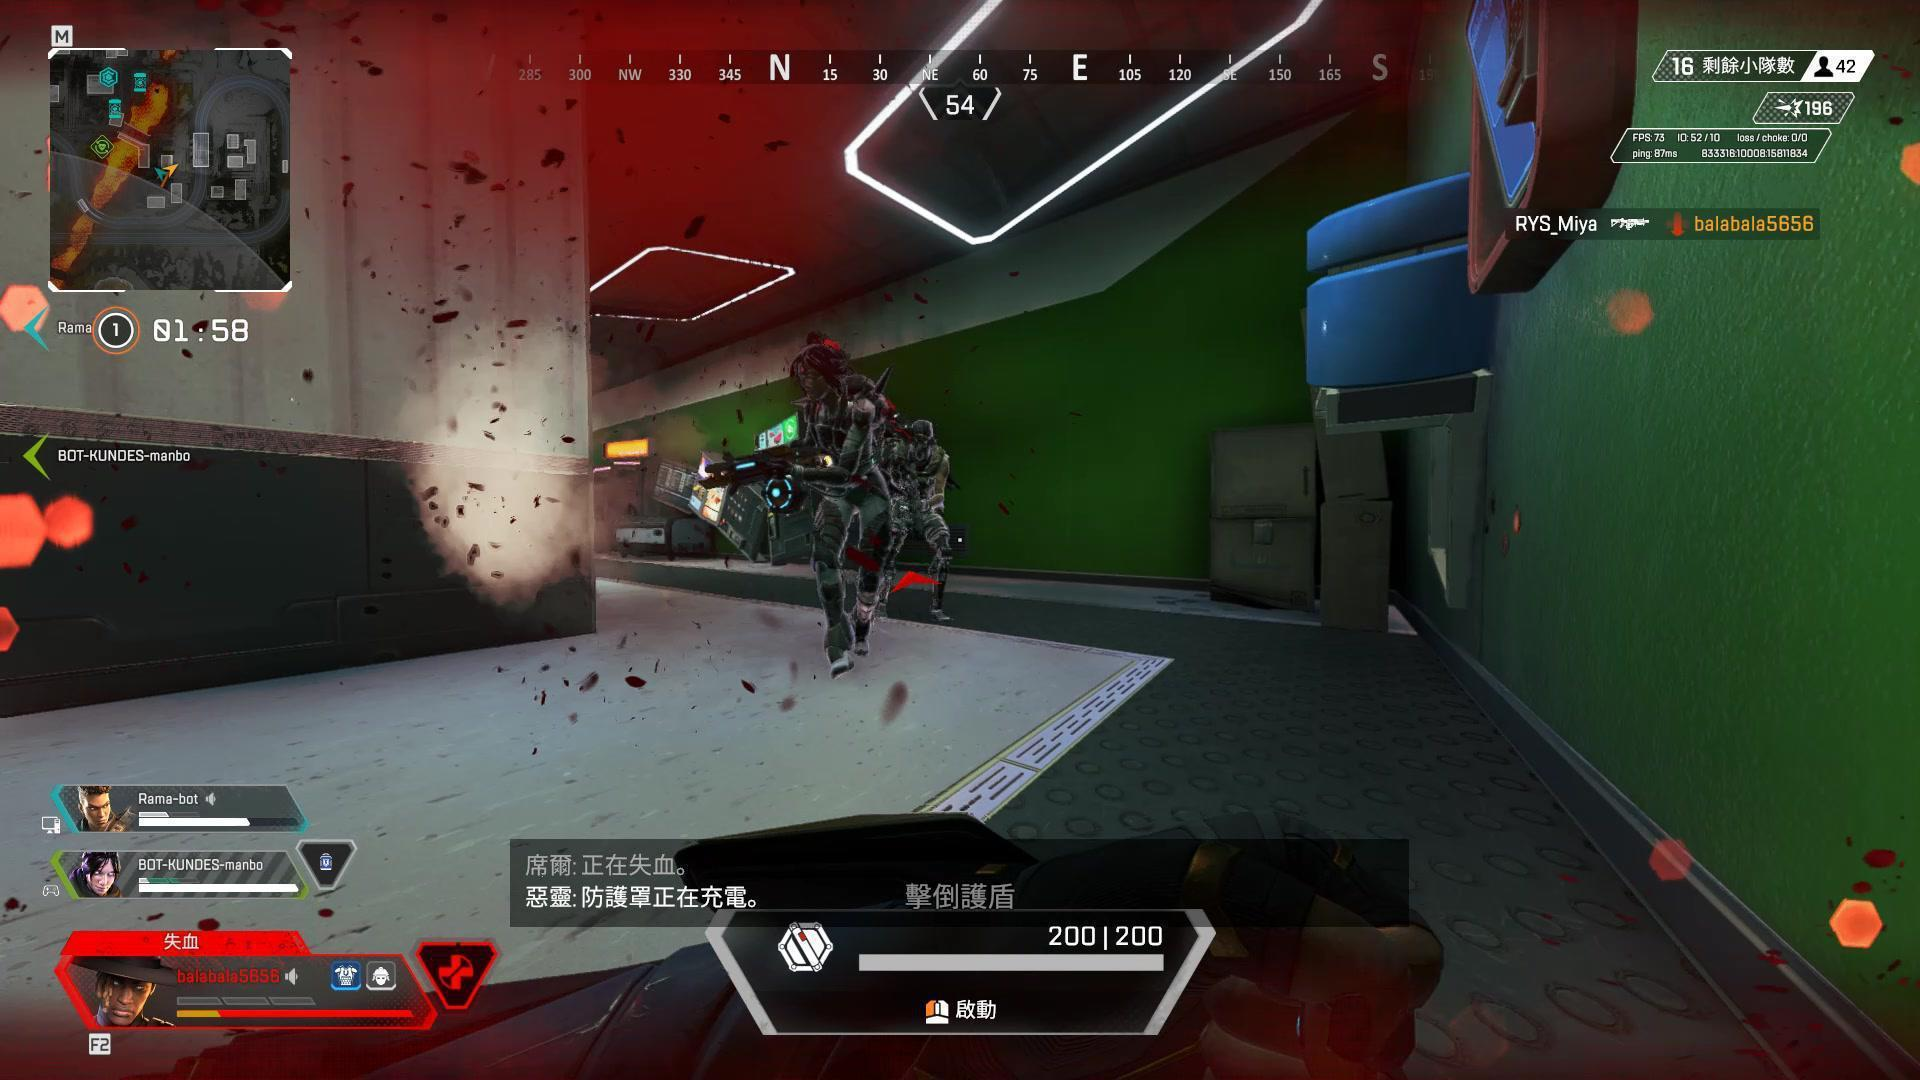avatar: (783, 346, 898, 679)
